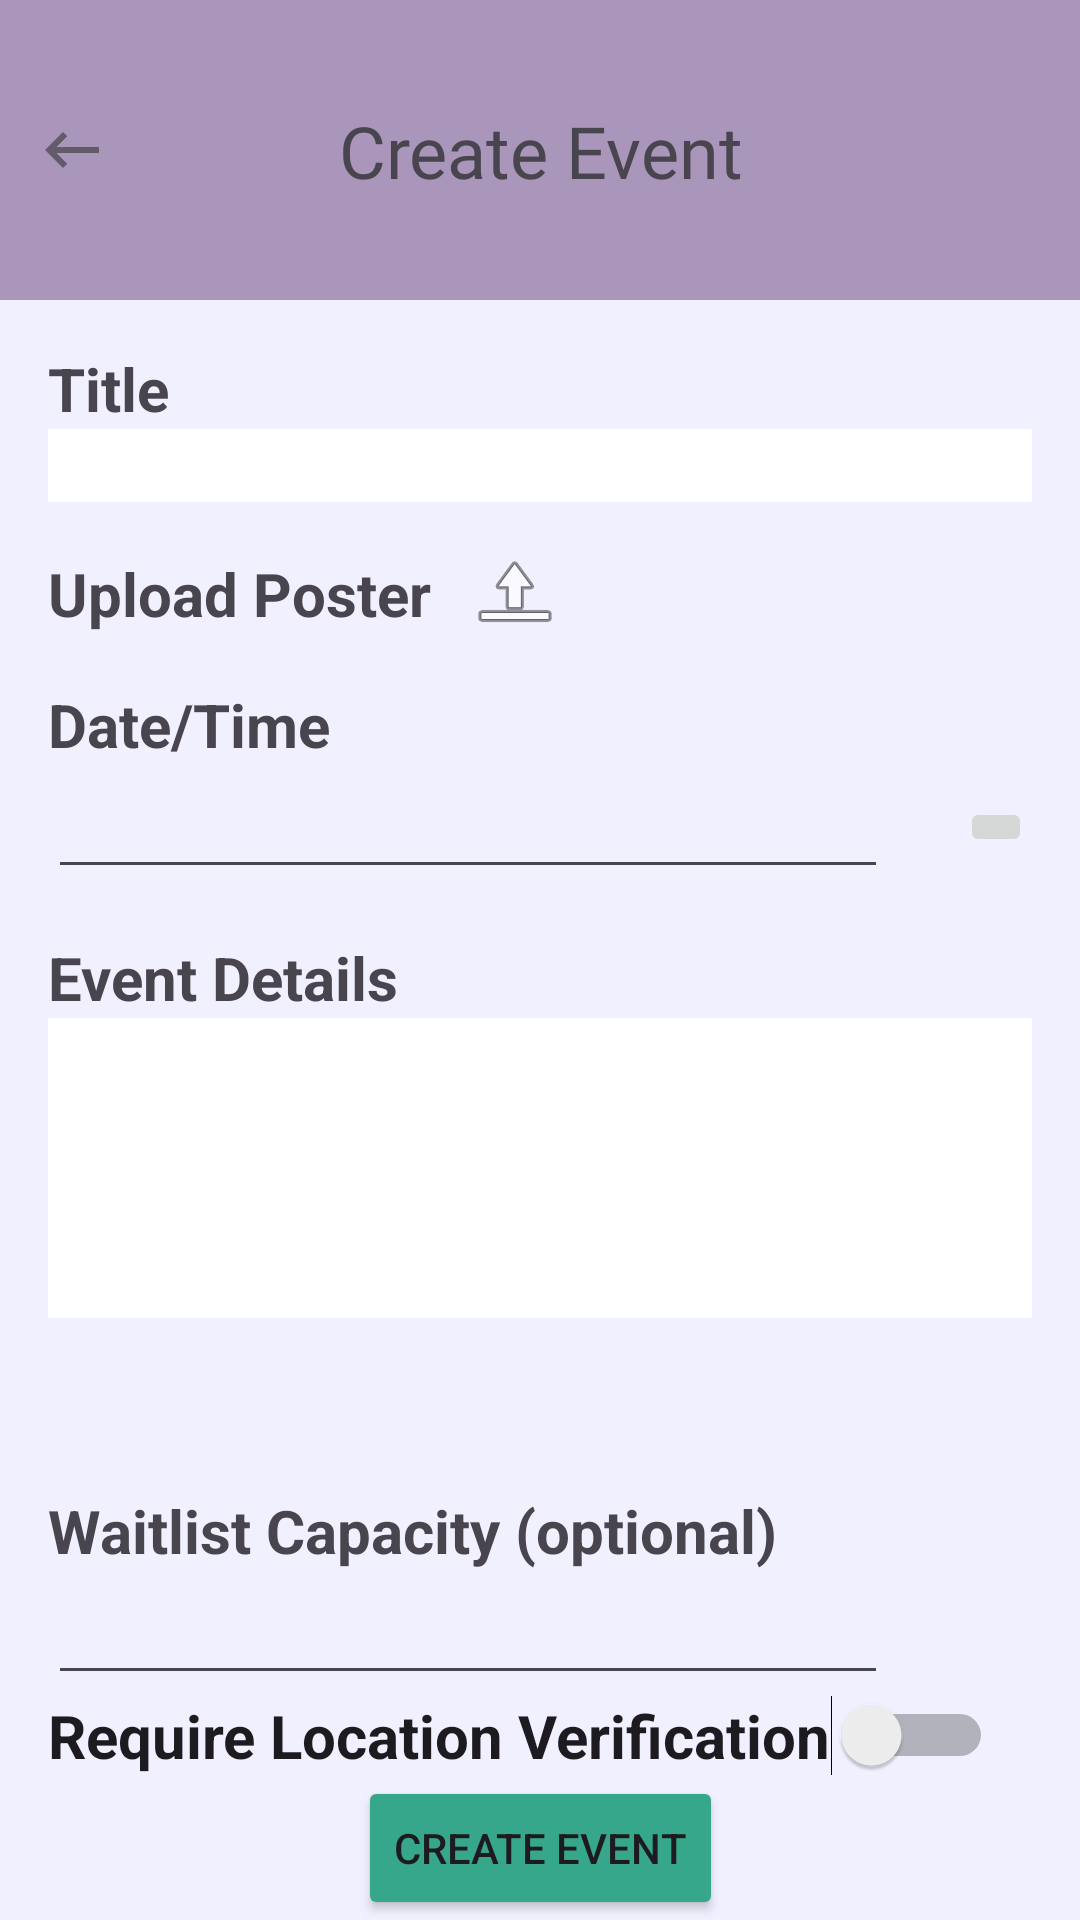

Icons on this 1080px×1920px Android screen, each with its box as (x1, y1, x2, y2):
back: (45, 132, 99, 168)
